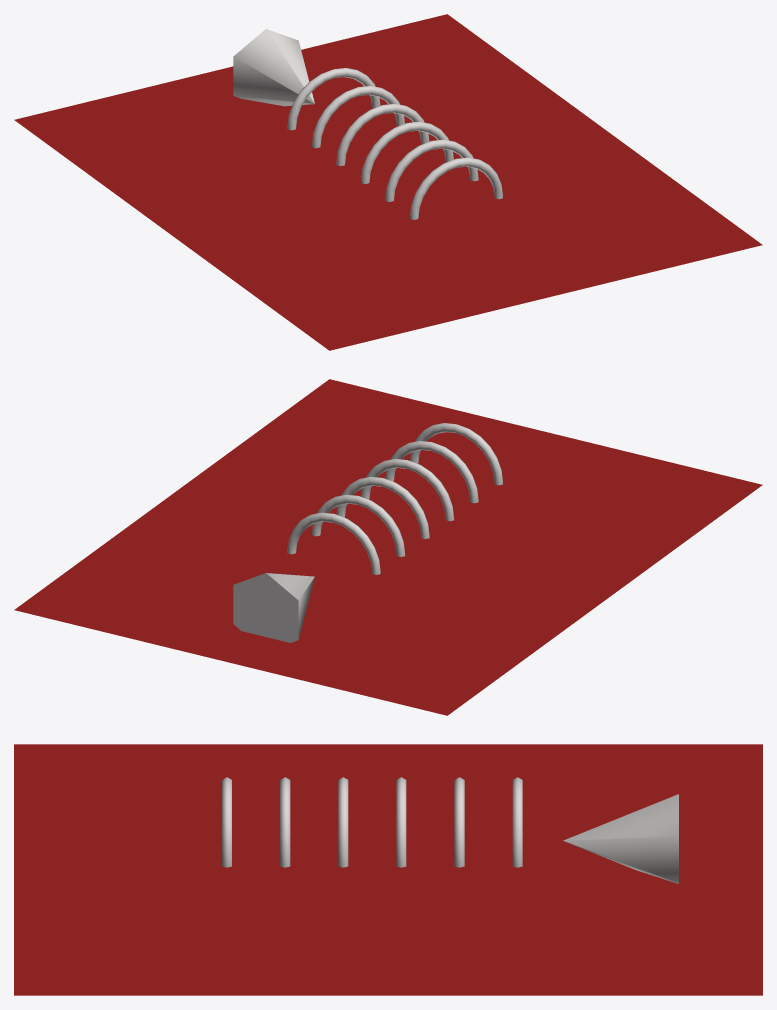
The model's file is tar_03.glb.
The picture shows the model from 3 angles, top to bottom: view 1: azimuth 30°, elevation 25°; view 2: azimuth 150°, elevation 25°; view 3: azimuth 270°, elevation 25°; orthographic projection. The views are drawn at different scales.
Parts seen in each view (by area): view 1: scenario_base_floor, tarkan_deathworm_spine, TAR_03; view 2: scenario_base_floor, tarkan_deathworm_spine, TAR_03; view 3: scenario_base_floor, tarkan_deathworm_spine, TAR_03.
Part boxes in pixels (x1,y1,x2,y2): scenario_base_floor: (14, 14, 762, 350); tarkan_deathworm_spine: (287, 68, 502, 219); TAR_03: (233, 29, 314, 106); scenario_base_floor: (14, 379, 762, 715); tarkan_deathworm_spine: (287, 423, 502, 574); TAR_03: (233, 573, 314, 642); scenario_base_floor: (14, 744, 762, 995); tarkan_deathworm_spine: (222, 777, 522, 867); TAR_03: (563, 794, 678, 883).
Size of the model in its own units: 46 by 8.95 by 58.
